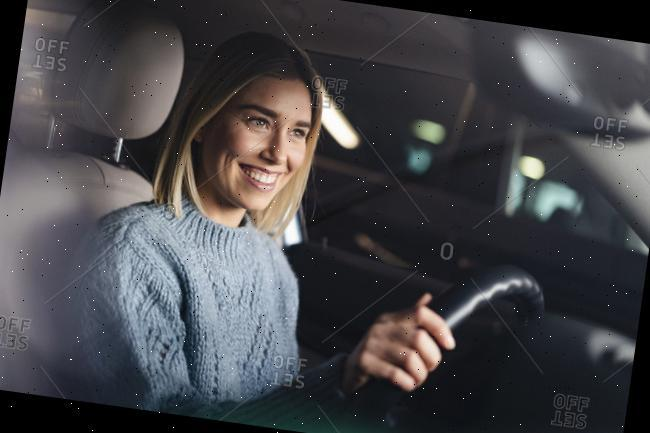Awake: (154, 38, 353, 228)
